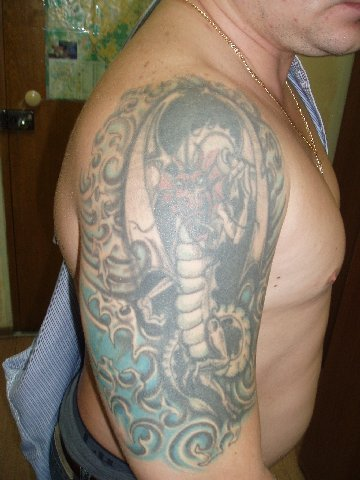tatu6_drakon: (61, 55, 294, 469)
